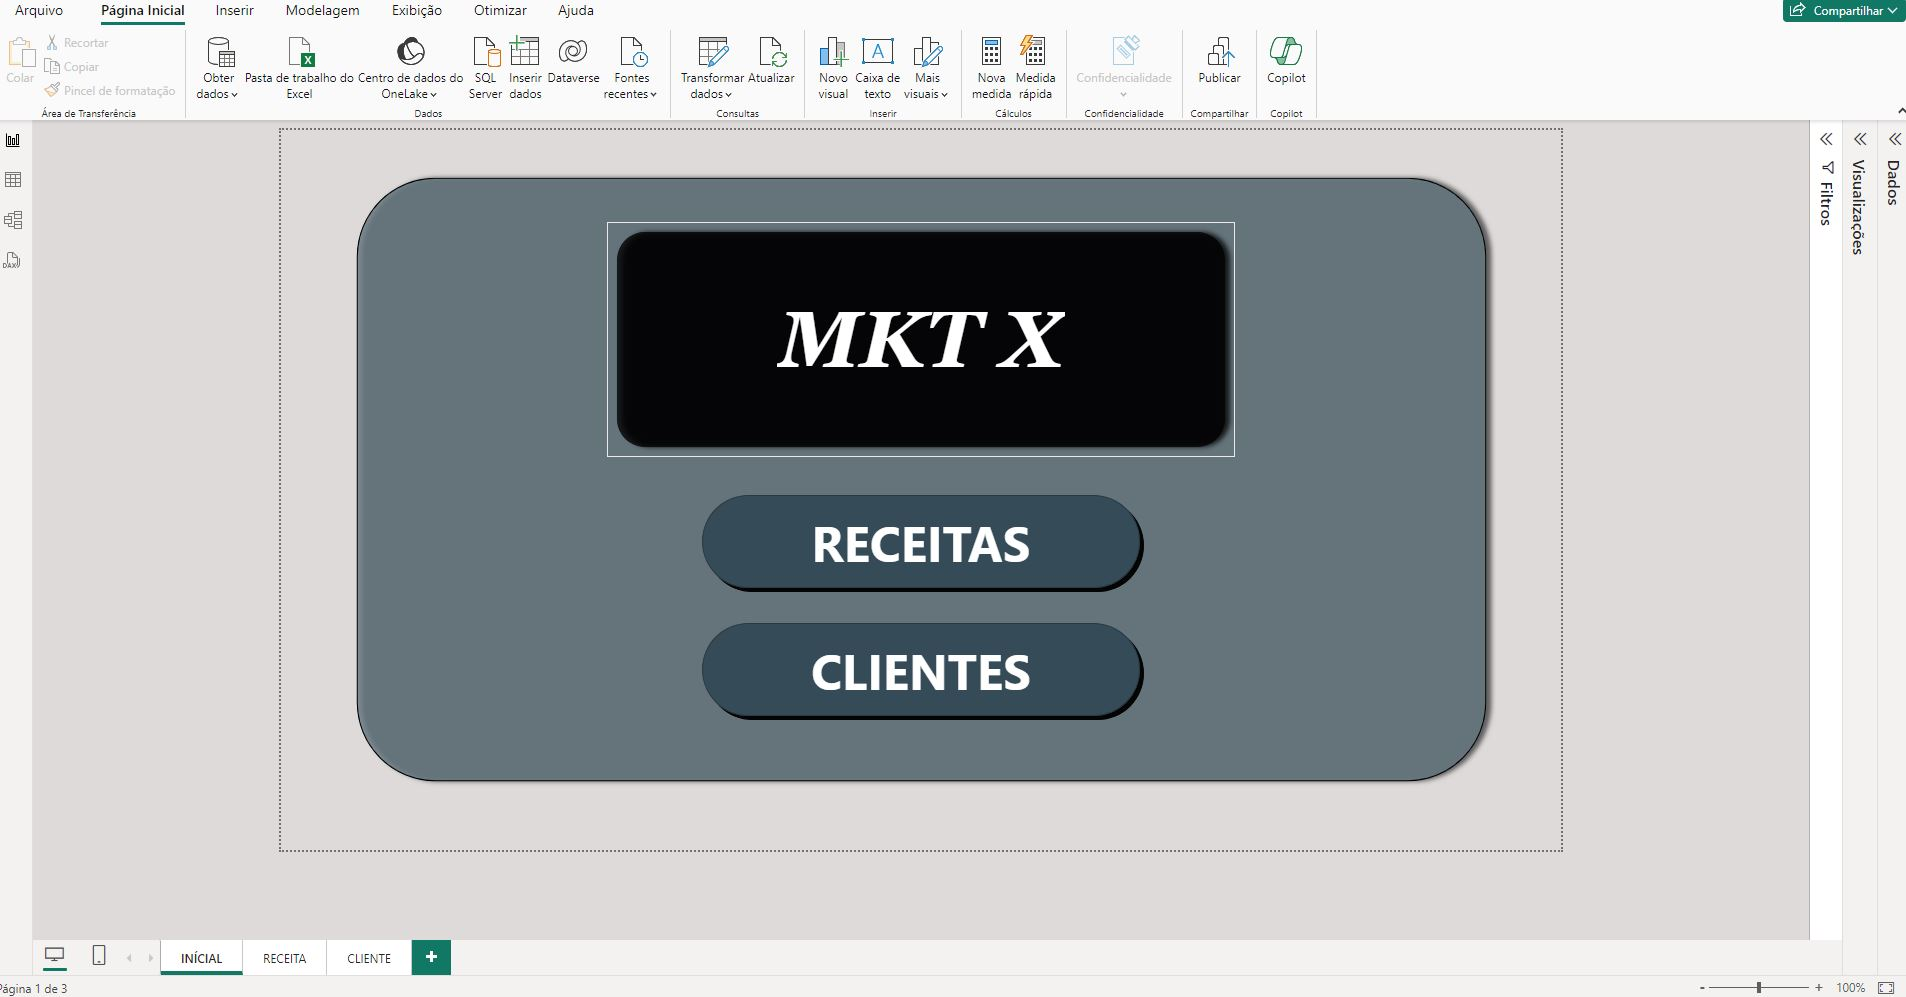

The page's visual inventory and layout, read from the dashboard file:
{"tool":"powerbi","page":{"name":"INÍCIAL","canvas":[1280,720],"ordinal":0},"visuals":[{"type":"shape","box":[65.6,38.1,1149.2,623.3],"z":0},{"type":"shape","box":[415.9,360,447.8,102.9],"z":1000},{"type":"shape","box":[415.9,487.7,447.8,102.9],"z":2000},{"type":"shape","box":[326.3,92.2,627.8,235],"z":3000}]}

Visuals, with their boxes on the page's 1280x720 design canvas (x1, y1, x2, y2). These are canvas units, not pixel positions in the 1906x997 screenshot, which may show the page scaled, cropped or inside an application window:
shape: 66/38/1215/661
shape: 416/360/864/463
shape: 416/488/864/591
shape: 326/92/954/327
